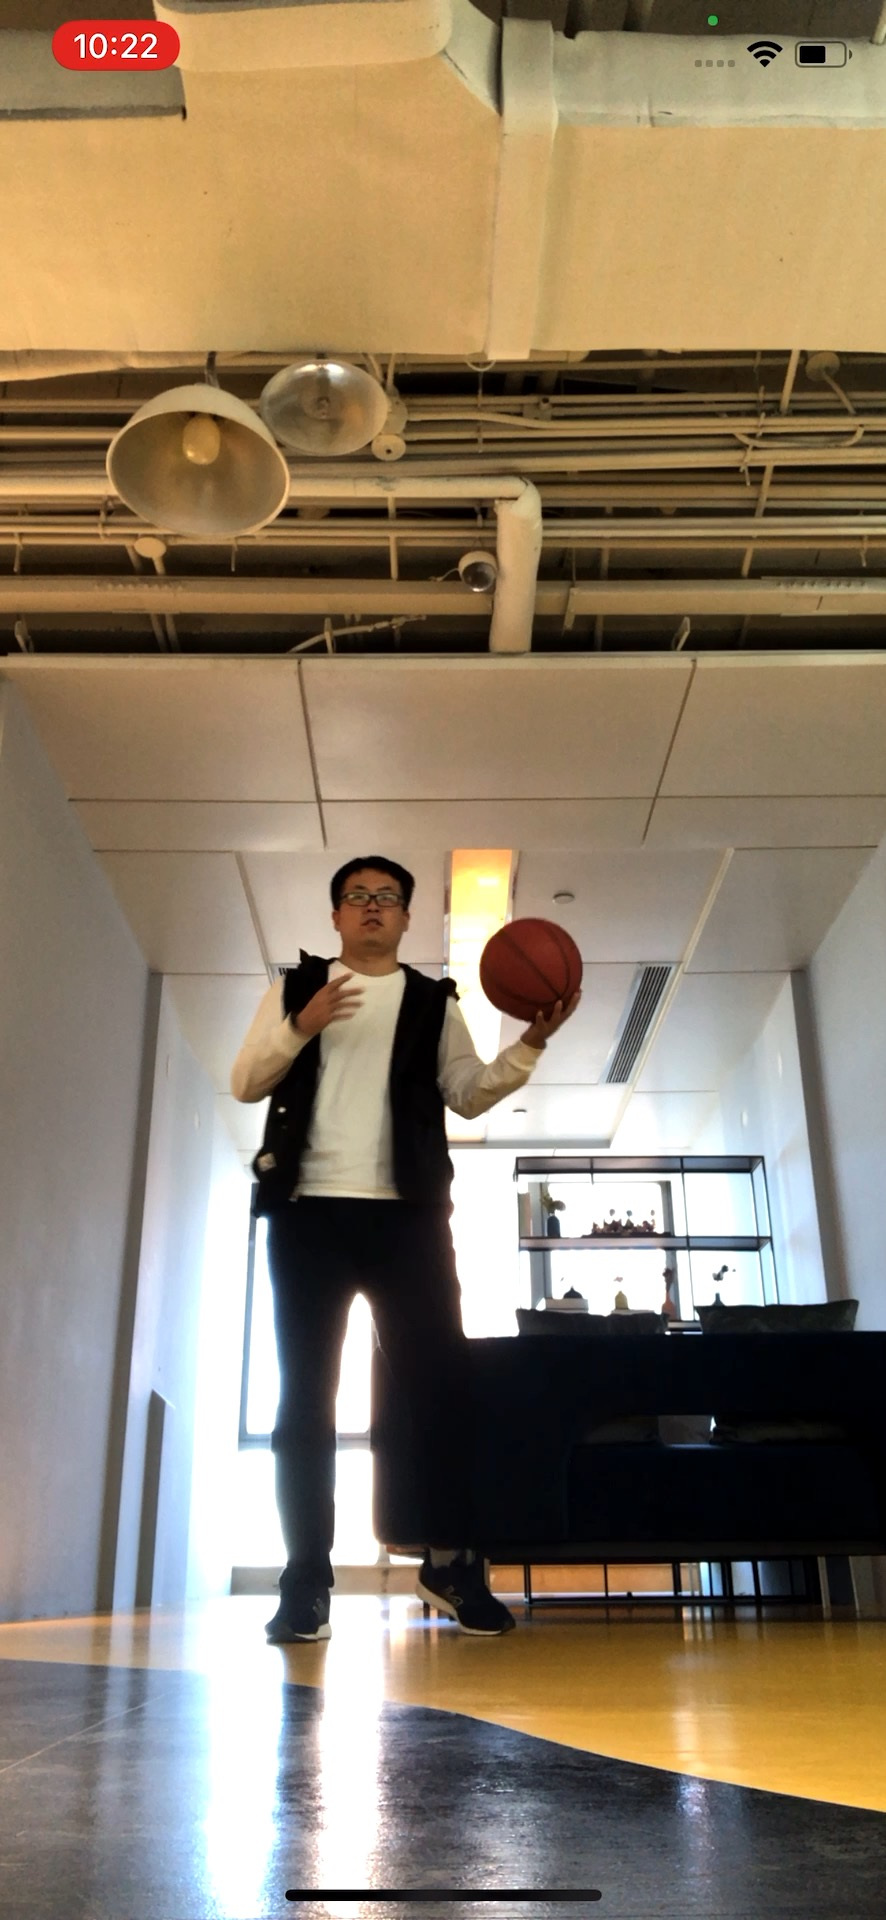ball: (478, 913, 583, 1022)
